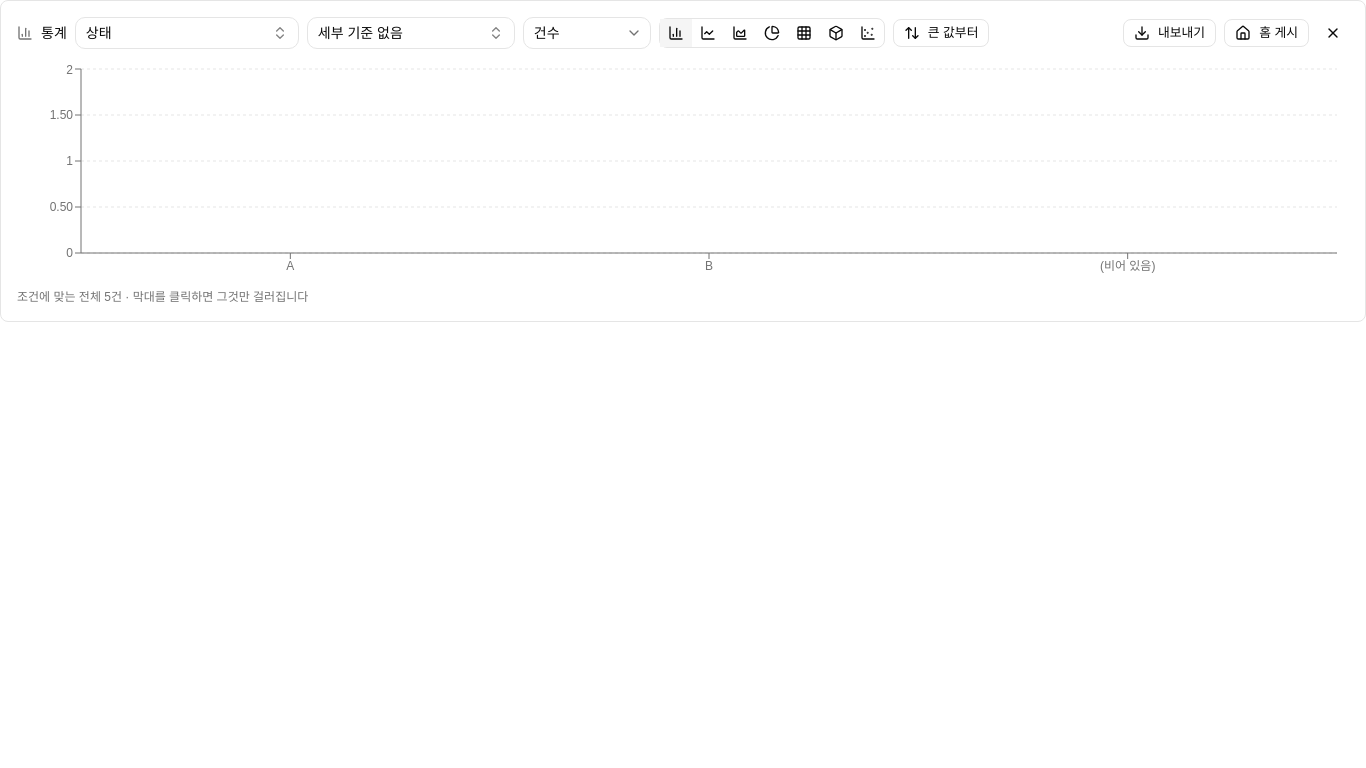
Test case: 홈 게시 › 한 번에 부서 뷰로 저장하고 홈에 올린다
The image size is (1366, 768).
expect the text "조건에 맞는 전체 5건 · 막대를 클릭하면 그것만 걸러집니다" is shown: met, box [17, 290, 308, 304]
Click the button "홈 게시". click: coordinates (1267, 33)
box: [1224, 19, 1309, 47]
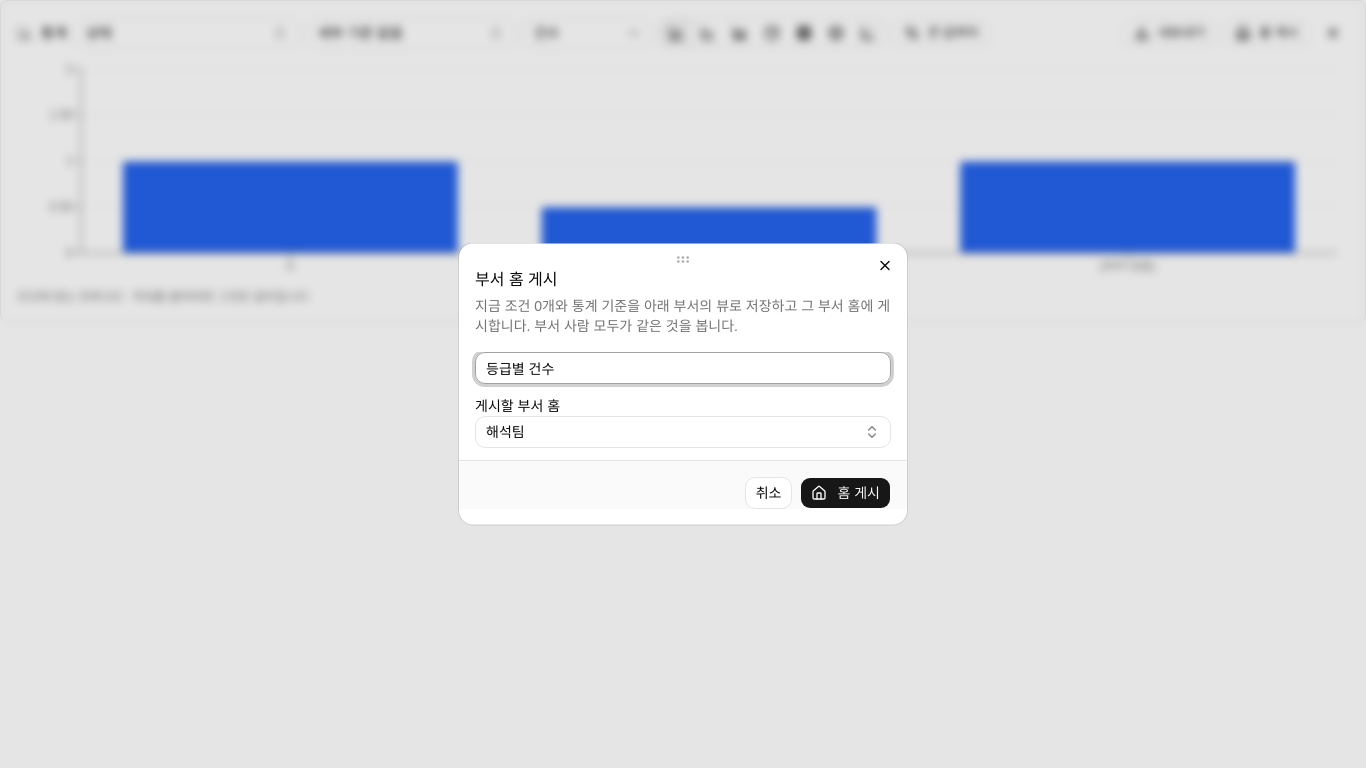
expect the field with placeholder "홈에 뜰 이름 — 「등급별 공급사」 처럼" holds "등급별 건수": met, box [475, 352, 891, 384]
Click the button "홈 게시". click: coordinates (846, 492)
box: [800, 476, 891, 508]
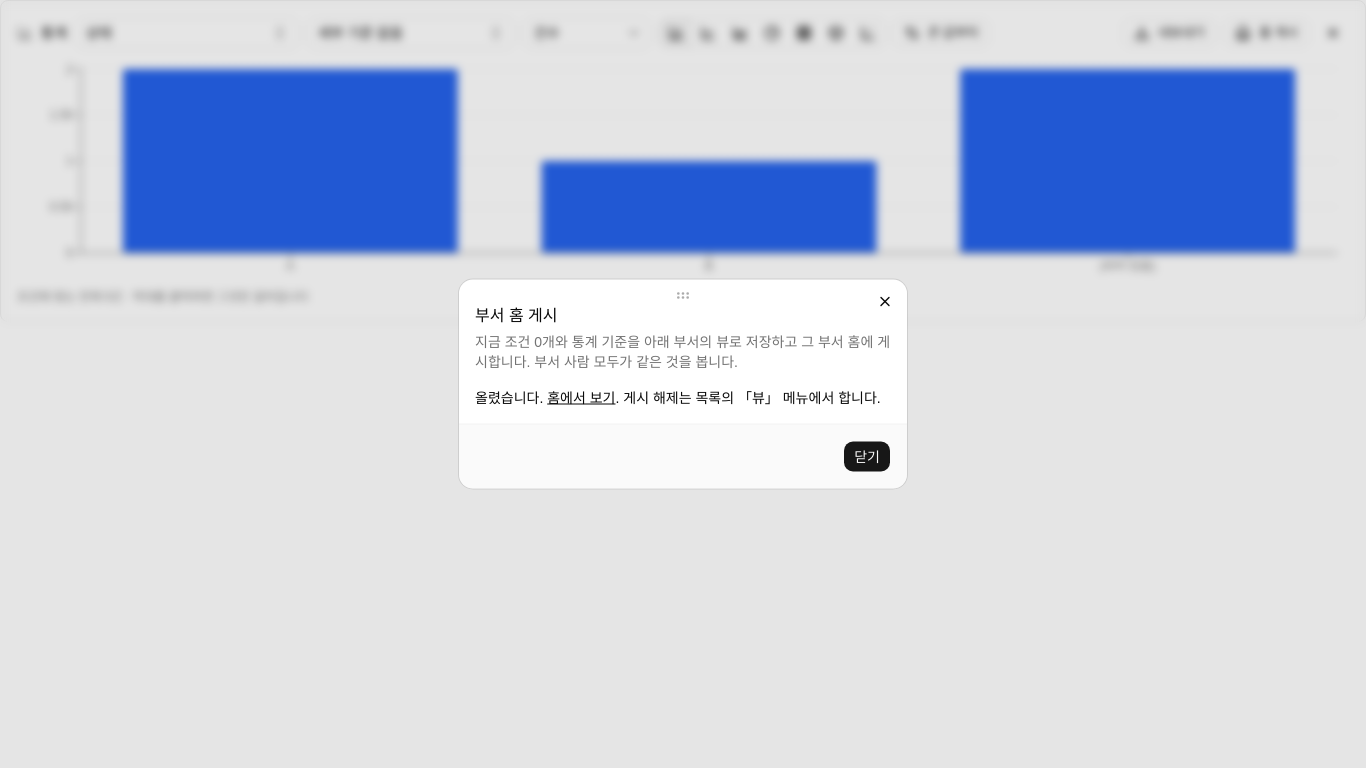
expect the link "홈에서 보기" is shown: met, box [547, 390, 616, 406]
